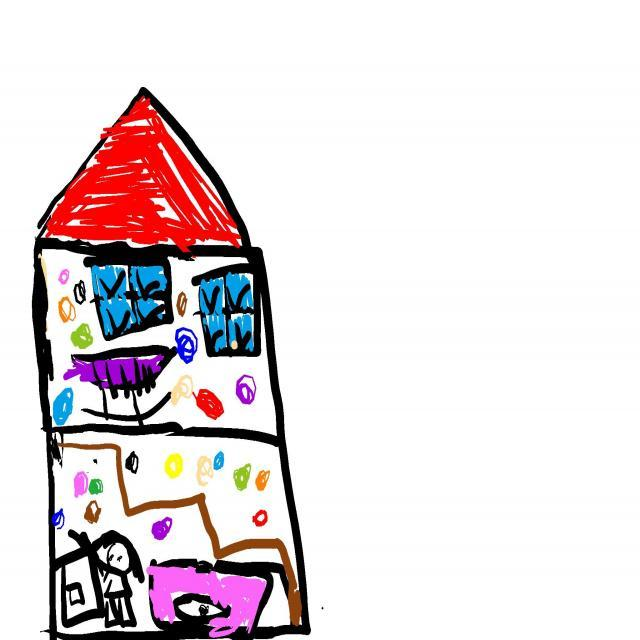door: (58, 538, 103, 630)
house: (25, 76, 314, 640)
roof: (29, 82, 259, 253)
window: (84, 253, 175, 344), (197, 262, 262, 358)
